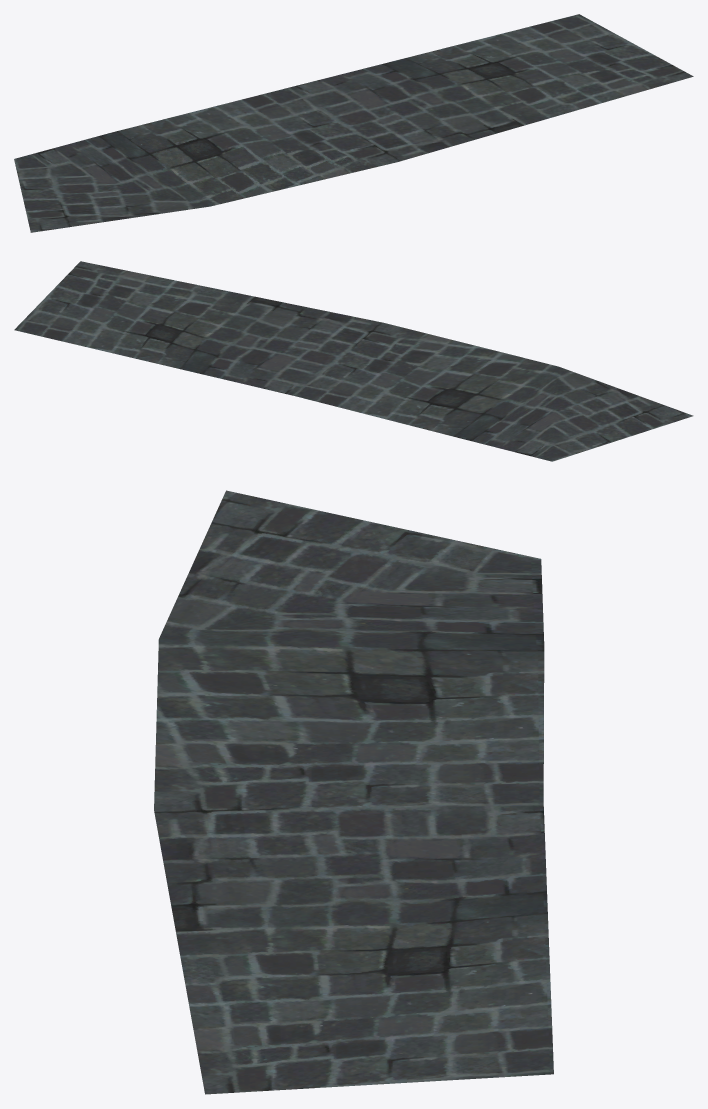
File: blend_brick08.fbx
The picture shows the model from 3 angles, top to bottom: view 1: azimuth 30°, elevation 25°; view 2: azimuth 150°, elevation 25°; view 3: azimuth 270°, elevation 25°; orthographic projection. The views are drawn at different scales.
Parts seen in each view (by area): view 1: obj0.007; view 2: obj0.007; view 3: obj0.007.
Part boxes in pixels (box(x1,y1,x2,y2)): obj0.007: box(14, 14, 693, 232); obj0.007: box(14, 261, 693, 461); obj0.007: box(154, 490, 553, 1094).
Bounding box in the file's own units: 9.75 × 0.0526 × 2.73.
